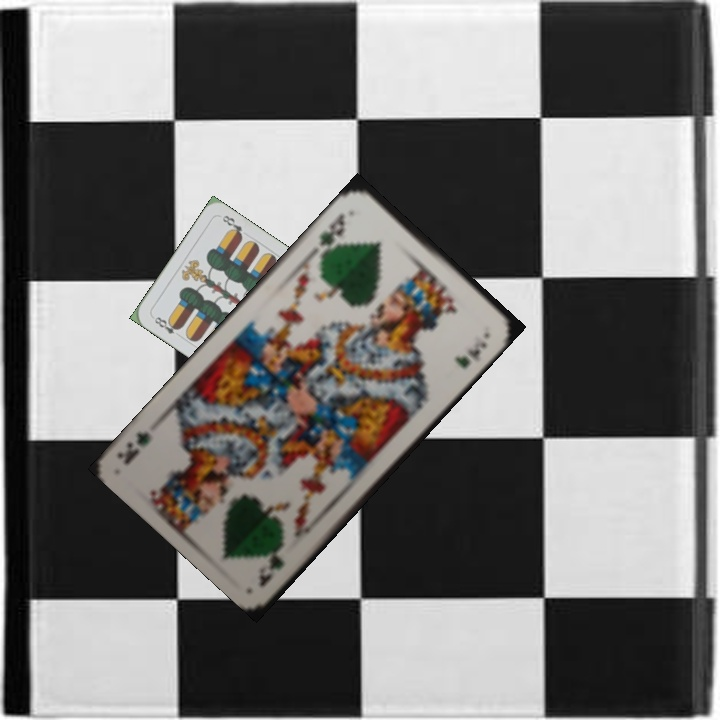E8: (148, 312, 183, 337)
GK: (254, 539, 289, 590), (315, 208, 348, 256)
